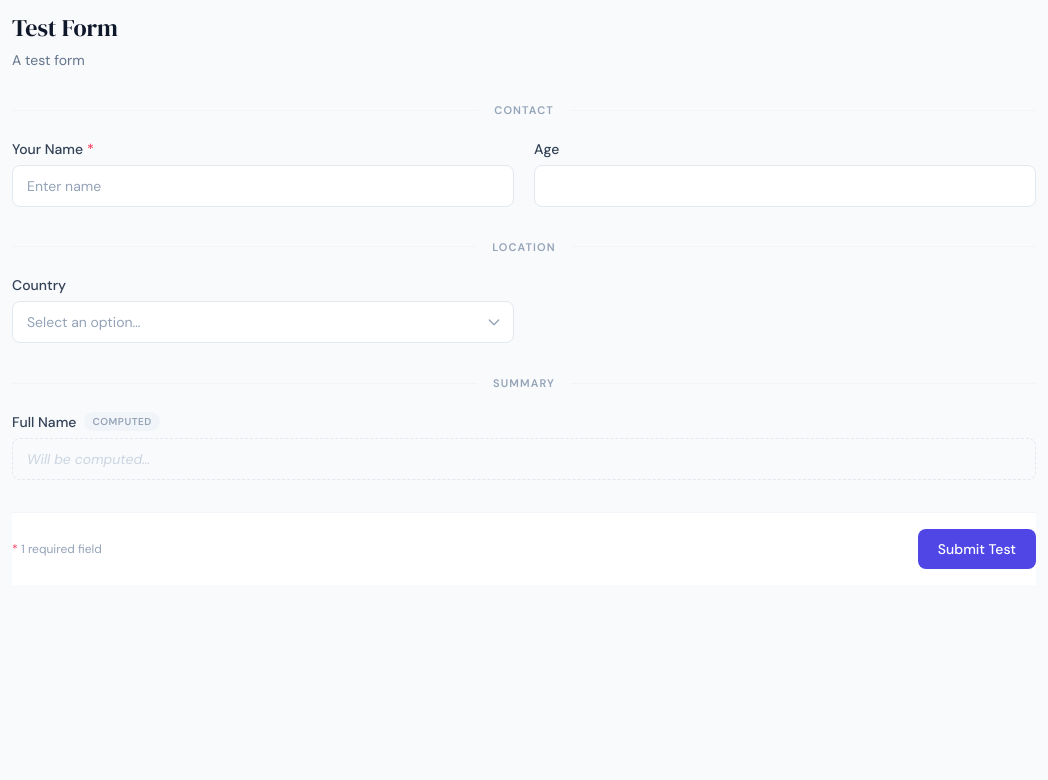
Test: FormRenderer — blur-time validation › clears the blur error when the user fixes the field value
Note: Blur empty to trigger error
Click the field labelled "Your Name*" at [263, 186], box top-left (12, 164), bottom-right (514, 206)
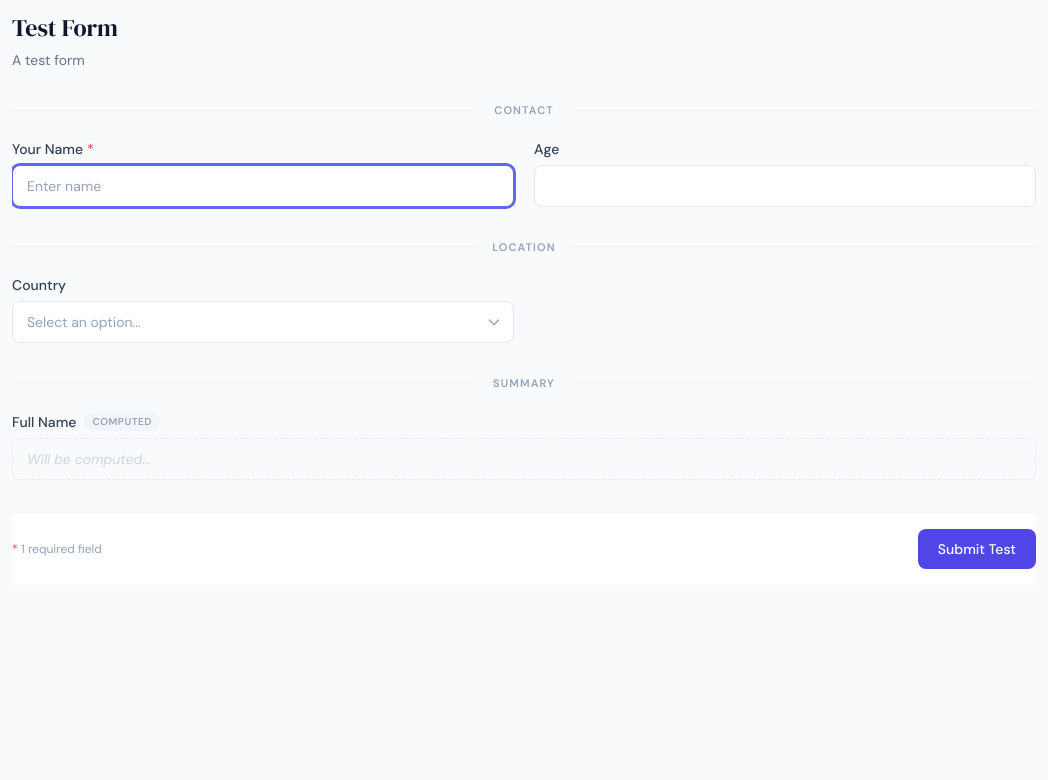
Press Tab
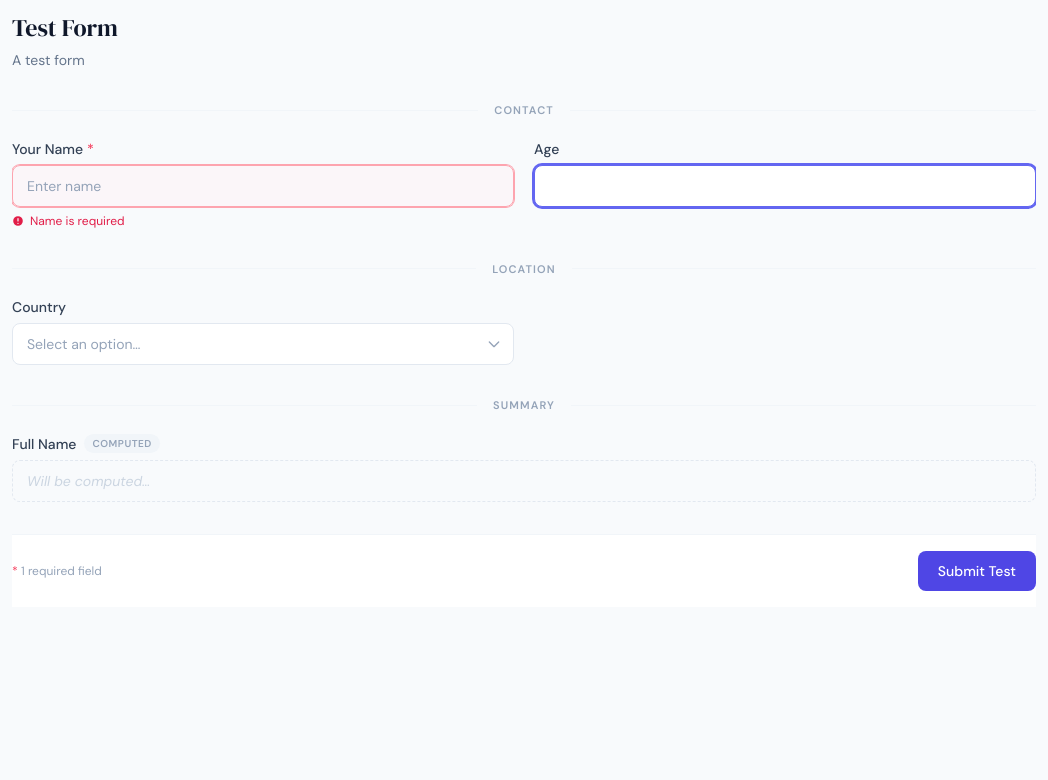
Expected: the text "Name is required" is shown, top-left (12, 212), bottom-right (124, 228)
Note: Now type something → error clears
Type "Jane" into the field labelled "Your Name*" at [263, 186], box top-left (12, 164), bottom-right (514, 206)
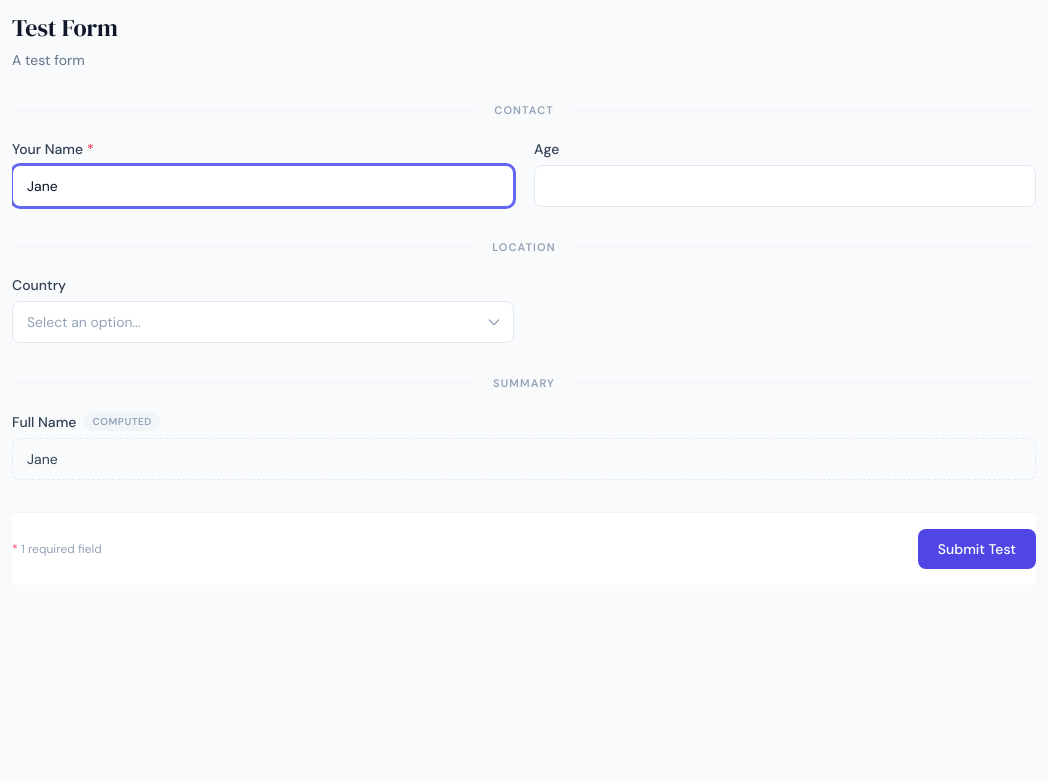
Expected: the text "Name is required" is gone
